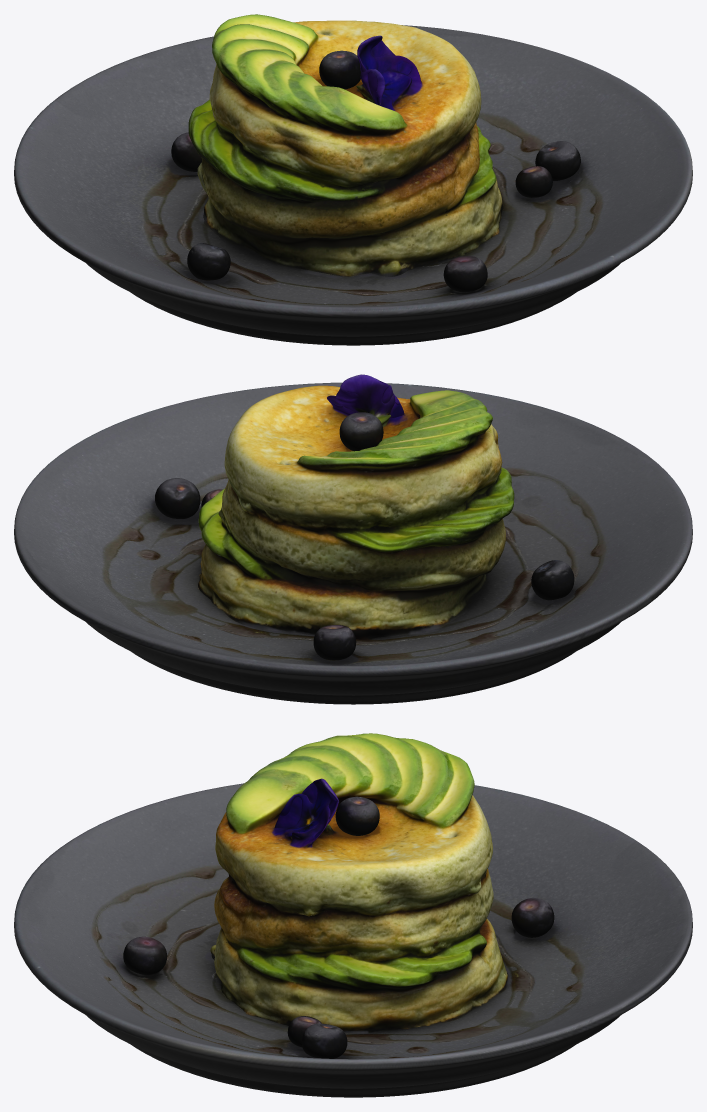
Rendered from Saint Stack.FBX.
The picture shows the model from 3 angles, top to bottom: view 1: azimuth 30°, elevation 25°; view 2: azimuth 150°, elevation 25°; view 3: azimuth 270°, elevation 25°; orthographic projection.
Parts seen in each view (by area): view 1: The_Saint_Stack; view 2: The_Saint_Stack; view 3: The_Saint_Stack.
Part boxes in pixels (box(x1,y1,x2,y2)): The_Saint_Stack: box(14, 14, 692, 345); The_Saint_Stack: box(14, 374, 692, 704); The_Saint_Stack: box(14, 733, 692, 1097).
Bounding box in the file's own units: 25.69 × 8.69 × 25.69.
Materials: 1 (1 with a texture image).
